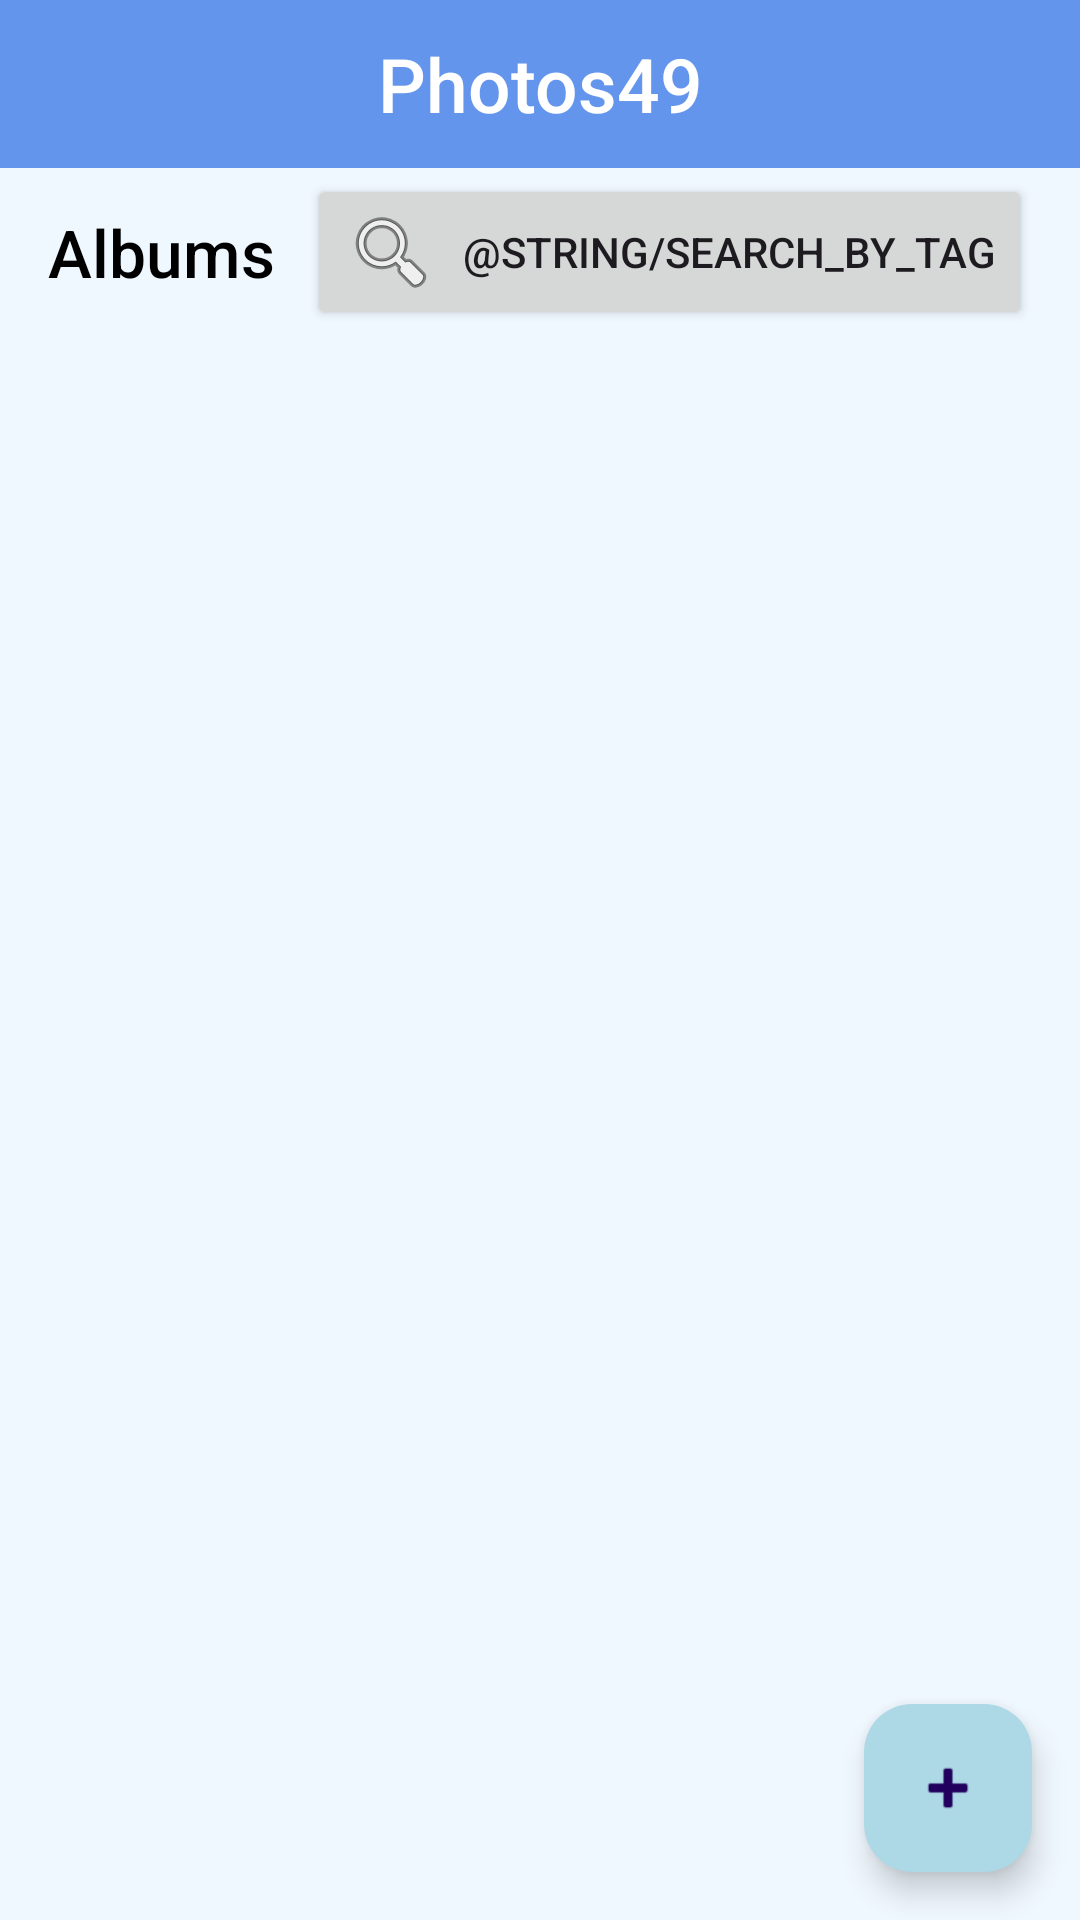

Locate icon controls on the screen. Image size 1080×1920, boxes as bbox=(x1, y1, x2, y2).
Add Album: bbox=(864, 1704, 1032, 1872)
